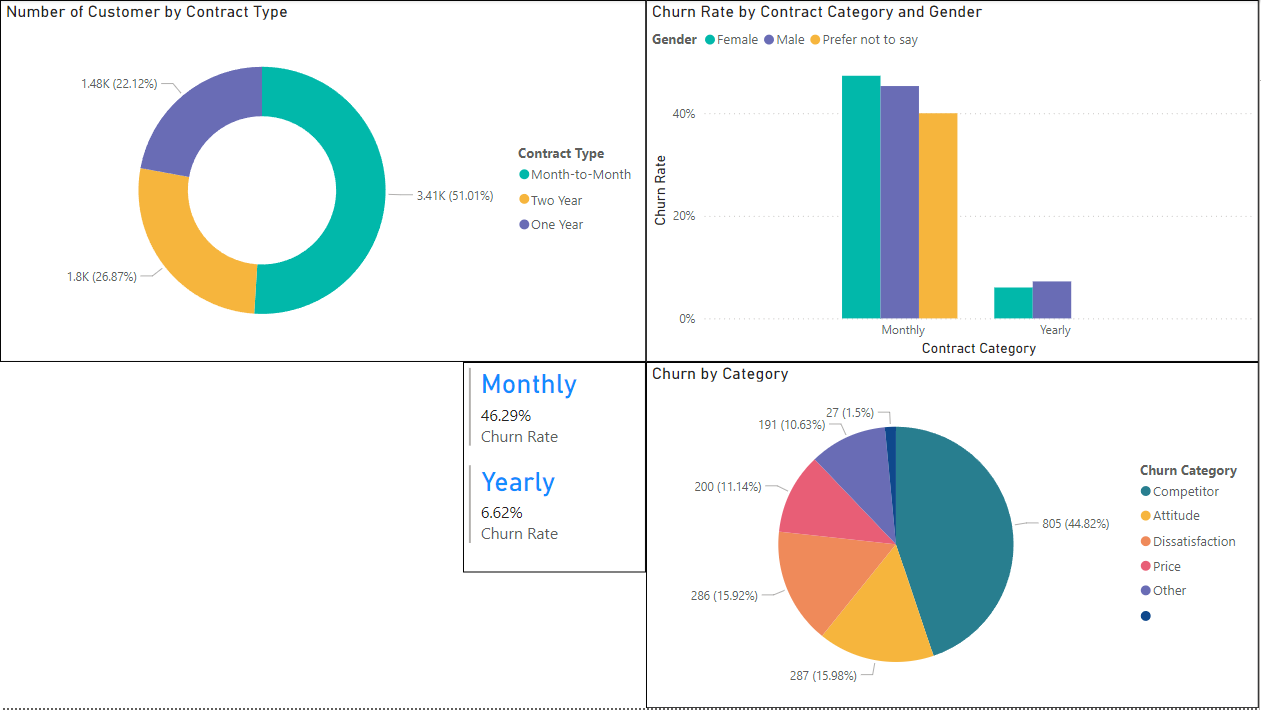

What the dashboard file says about the page in this screenshot:
{"tool":"powerbi","page":{"name":"Groups and Categories","canvas":[1280,720],"ordinal":2},"visuals":[{"type":"clusteredColumnChart","fields":{"Category":["Databel - Data.Contract Category"],"Y":["Databel - Data.Churn Rate"],"Series":["Databel - Data.Gender"]},"box":[748.4,0,531.6,332.7],"z":0},{"type":"donutChart","fields":{"Category":["Databel - Data.Contract Type"],"Y":["CountNonNull(Databel - Data.Customer ID)"]},"box":[293.8,0,454.6,332.7],"z":1000},{"type":"pieChart","title":"Churn by Category","fields":{"Y":["CountNonNull(Databel - Data.Customer ID)"],"Category":["Databel - Data.Churn Category"]},"box":[464.6,332.7,623.5,351.7],"z":2000},{"type":"multiRowCard","fields":{"Values":["Databel - Data.Churn Rate","Databel - Data.Contract Category"]},"box":[40,379.7,277.8,183.9],"z":3000}]}

Visuals, with their boxes in screenshot pixels (x1, y1, x2, y2), scaled from the page's 1280x720 canvas onto the 1261x710 screenshot:
clusteredColumnChart - Databel - Data.Contract Category x Databel - Data.Churn Rate: <box>737,0,1260,328</box>
donutChart - Databel - Data.Contract Type x CountNonNull(Databel - Data.Customer ID): <box>289,0,737,328</box>
"Churn by Category" pieChart: <box>458,328,1072,675</box>
multiRowCard - Databel - Data.Churn Rate x Databel - Data.Contract Category: <box>39,374,313,556</box>
